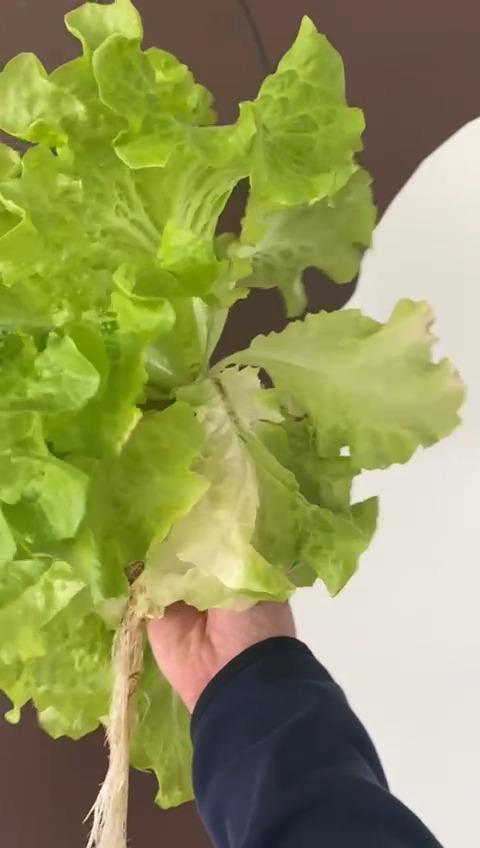Healthy Lettuce: (0, 0, 468, 825)
